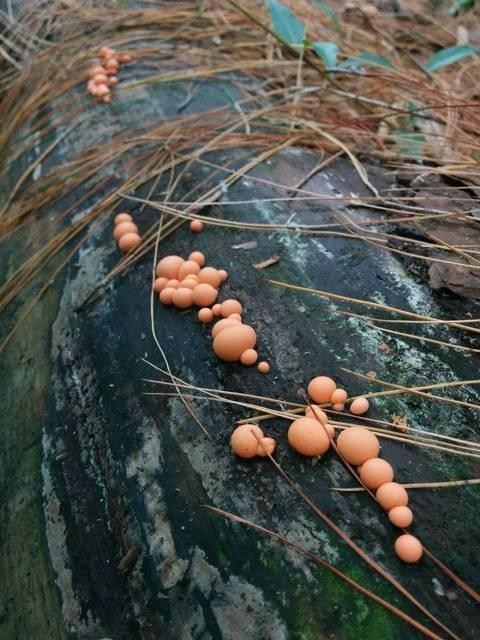poisonous_mushroom: (286, 374, 424, 564), (148, 246, 235, 310), (78, 44, 129, 97), (286, 415, 331, 457), (335, 425, 380, 465), (211, 322, 257, 361), (229, 423, 275, 459), (393, 533, 422, 563), (306, 374, 336, 403), (117, 231, 141, 253)
